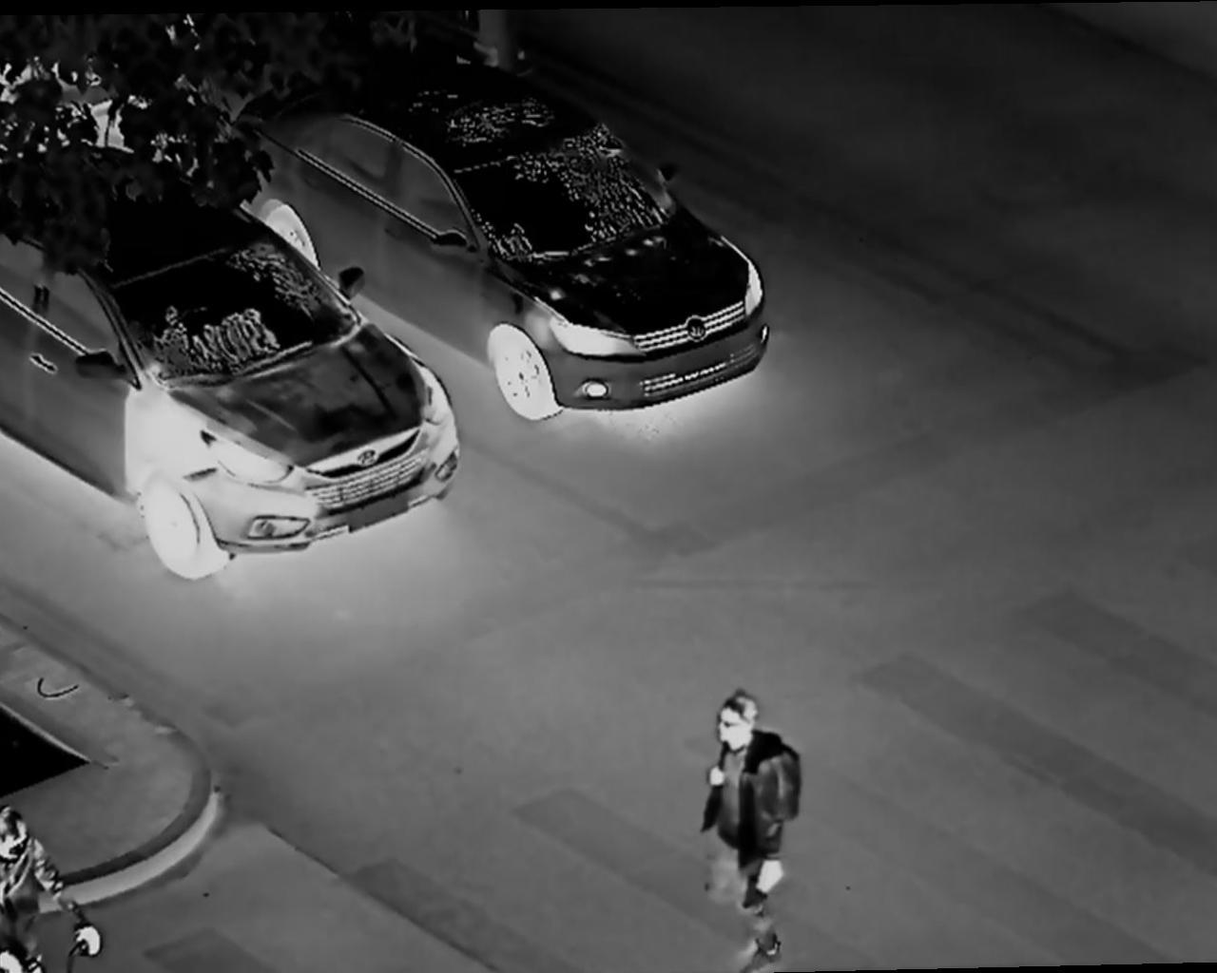person: (701, 689, 807, 973)
